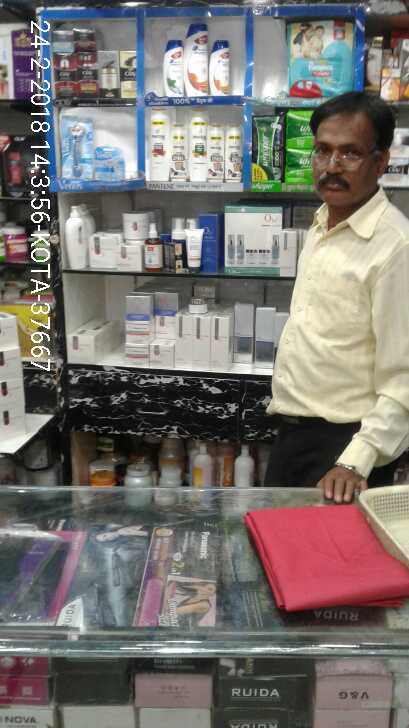venus: (62, 114, 94, 179), (94, 146, 124, 179)
